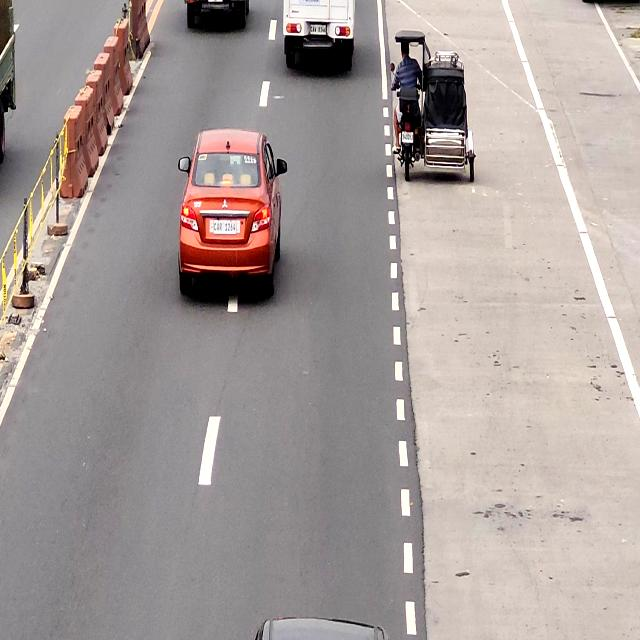Car: (180, 132, 282, 297), (253, 616, 388, 640)
License-Plate: (214, 218, 237, 237), (308, 21, 329, 37), (402, 132, 416, 145)
Tricycle: (384, 32, 477, 186)
